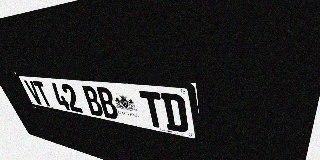2: (60, 83, 83, 113)
4: (49, 82, 71, 111)
B: (95, 86, 120, 120), (80, 85, 105, 117)
D: (160, 93, 189, 133)
T: (139, 91, 166, 129), (32, 81, 53, 107)
V: (24, 80, 44, 105)
